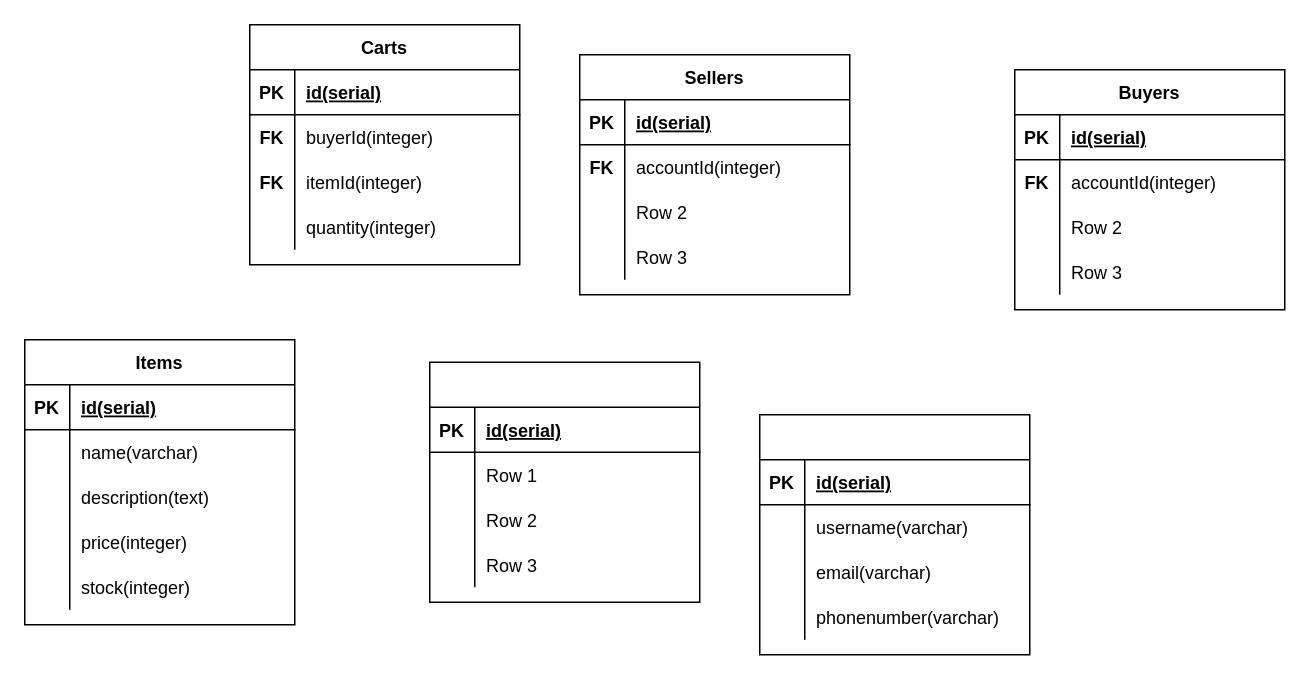
Image size: 1310x680. Some labels were removed from this diagram. Here are the shapes that lost their labels. From the top down, the box of each, then its label:
(428, 361, 700, 602): Verifications
(758, 413, 1030, 655): Accounts
